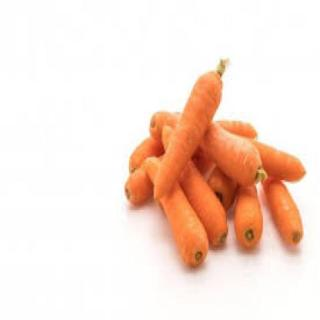Wortel: (153, 70, 225, 202), (146, 157, 210, 266), (263, 176, 306, 249)
